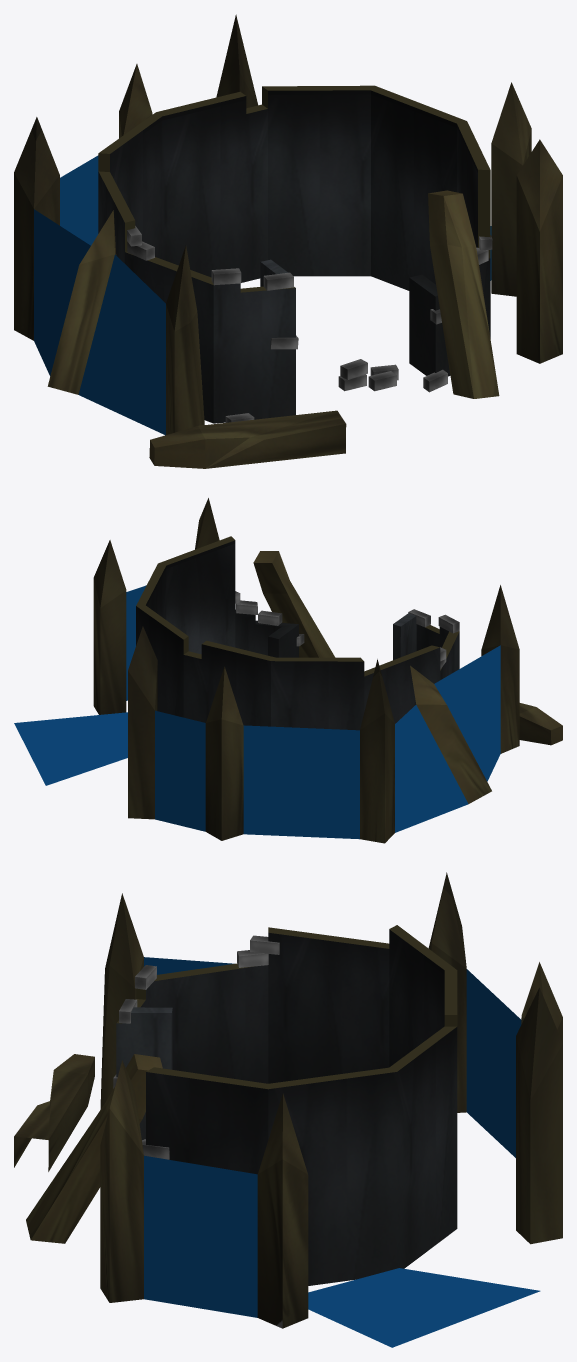
File: DefenseTower_Destroyed.fbx
3 renders of one model, top to bottom at view 1: azimuth 30°, elevation 25°; view 2: azimuth 150°, elevation 25°; view 3: azimuth 270°, elevation 25°, orthographic. The views are drawn at different scales.
Visible parts, largest first — view 1: Town_Hall_Destroyed; view 2: Town_Hall_Destroyed; view 3: Town_Hall_Destroyed.
Part boxes in pixels (bbox=[...]): Town_Hall_Destroyed: bbox=[14, 14, 562, 468]; Town_Hall_Destroyed: bbox=[14, 498, 562, 843]; Town_Hall_Destroyed: bbox=[14, 872, 562, 1347].
Size of the model in its own units: 13.73 by 5.72 by 11.32.
